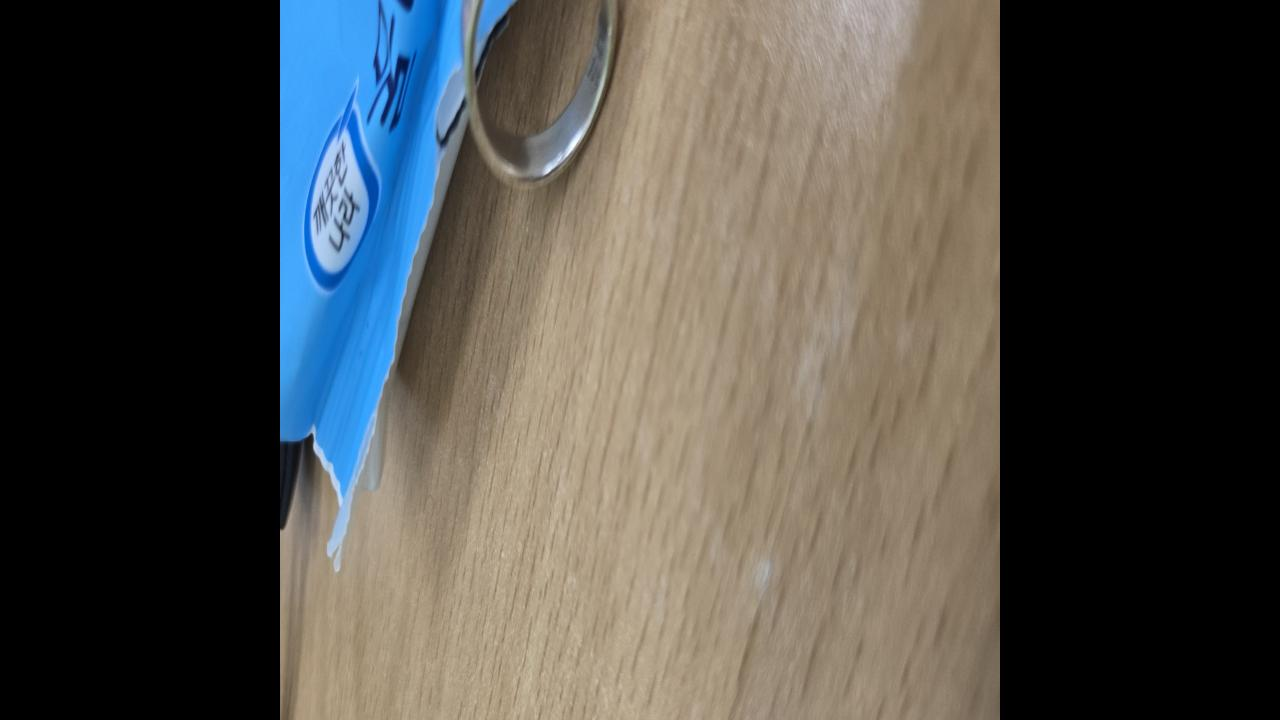ring: (460, 0, 620, 189)
